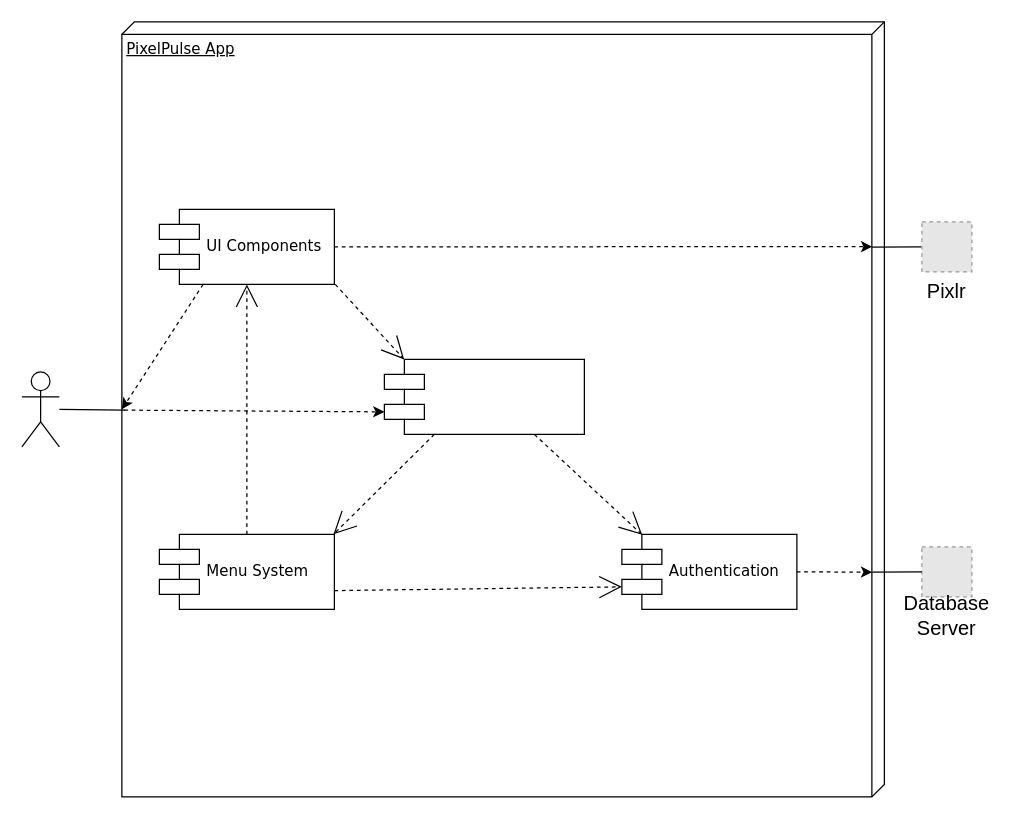
The diagram is 1011 pixels wide and 819 high, and some of its shapes have lost their labels. Grey dashed boxes stand in for pictures. The shapes that lost their labels are listed below. From the top down, each one's centre as x and y in pixels, then its label:
the point at 40,409: User
the point at 483,396: Input Handling
